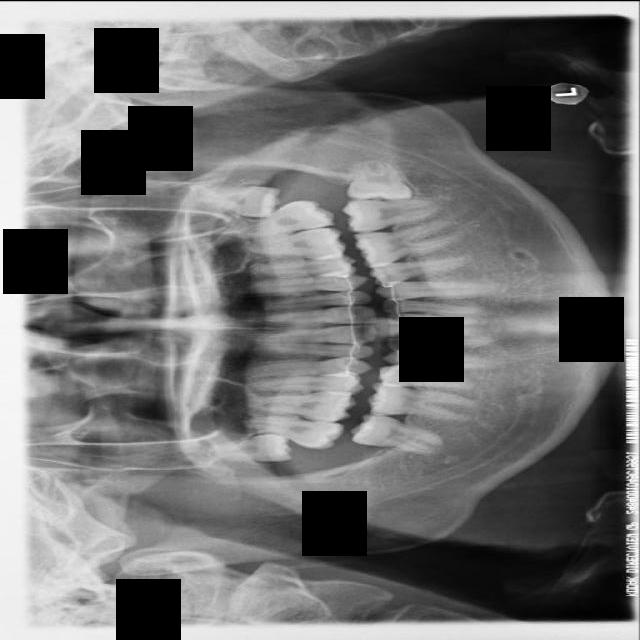3M ESPE Implant: (206, 431, 290, 461)
73: (524, 45, 545, 51)
BioHorizons Implant: (233, 195, 335, 241)
BioLife Implant: (194, 177, 281, 217)
Biomet 3i Implant: (345, 159, 413, 199)
Blue Sky Bio Implant: (343, 198, 441, 231)
Caries: (244, 408, 343, 452)
Implant: (349, 410, 447, 458)
